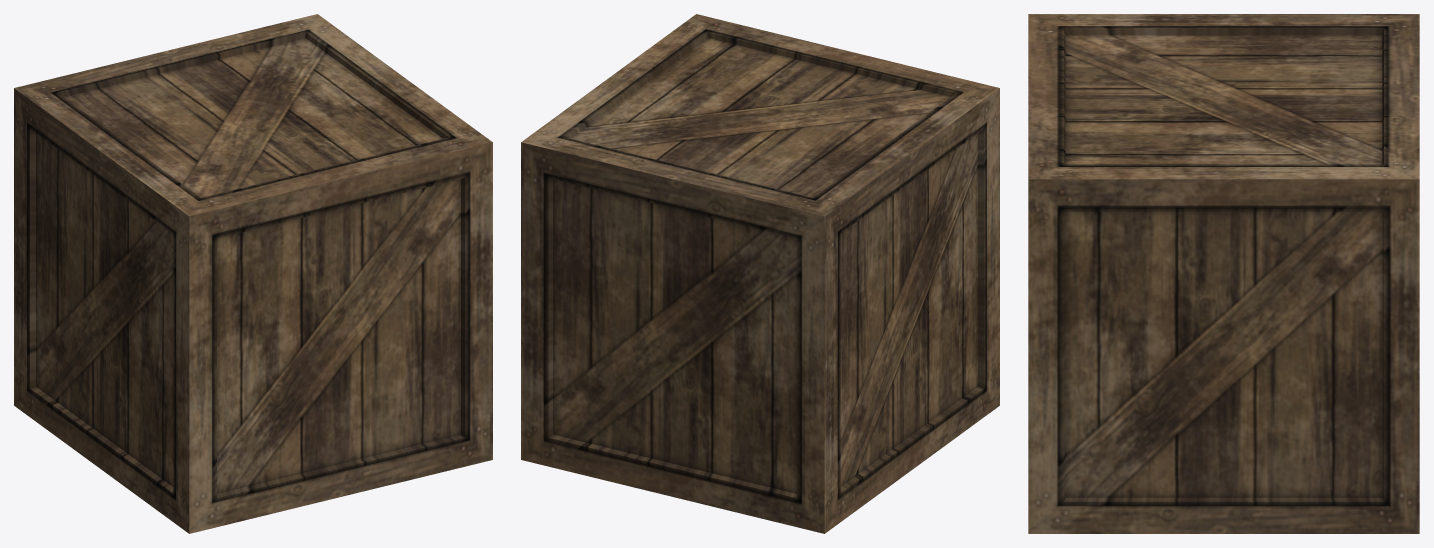
File: modular-containers-and-barrells-pack-game-ready-cube-001-335.glb
The picture shows the model from 3 angles, left to right: view 1: azimuth 30°, elevation 25°; view 2: azimuth 150°, elevation 25°; view 3: azimuth 270°, elevation 25°; orthographic projection. The views are drawn at different scales.
Parts seen in each view (by area): view 1: Cube.001_335; view 2: Cube.001_335; view 3: Cube.001_335.
Boxes of the visible parts, left/top/right/bottom form: Cube.001_335: left=14, top=14, right=492, bottom=533; Cube.001_335: left=521, top=14, right=999, bottom=533; Cube.001_335: left=1028, top=14, right=1419, bottom=533.
Size of the model in its own units: 1 by 1 by 1.
Materials: 1 (1 with a texture image).
